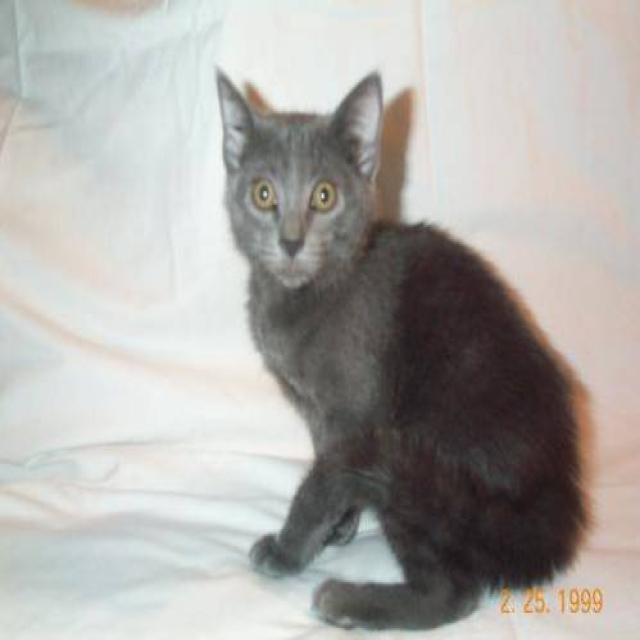cat: (214, 63, 598, 632)
